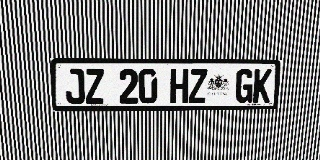0: (138, 69, 157, 104)
2: (119, 69, 138, 104)
G: (235, 69, 254, 103)
H: (170, 69, 189, 103)
J: (64, 69, 85, 104)
K: (252, 69, 272, 103)
Z: (84, 69, 105, 104), (188, 69, 207, 103)
